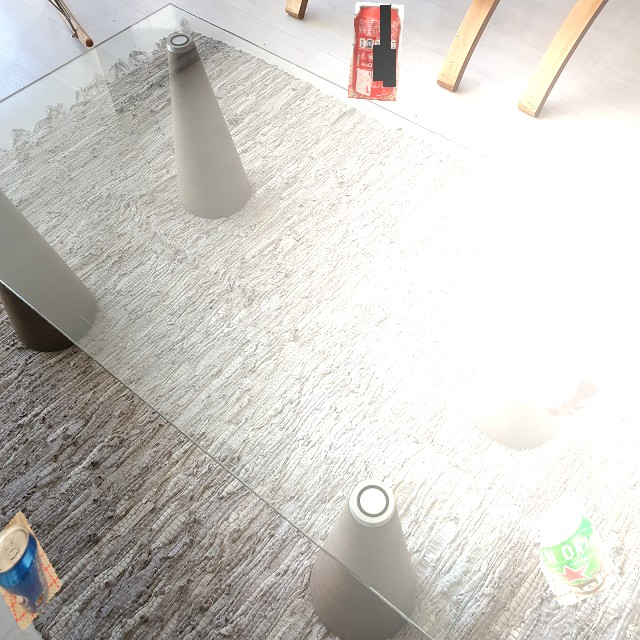coca cola: (509, 322, 640, 447), (348, 2, 404, 101)
heineken: (540, 495, 621, 605)
pepsi: (0, 511, 79, 630)
